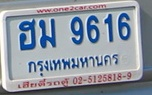txt28: (38, 17, 57, 50)
txt39: (18, 17, 37, 51)
